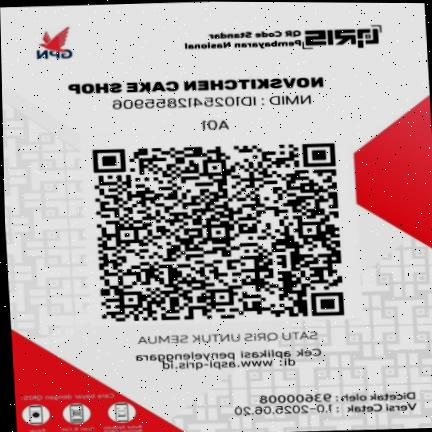Qris-Positioning: (0, 2, 432, 432)
